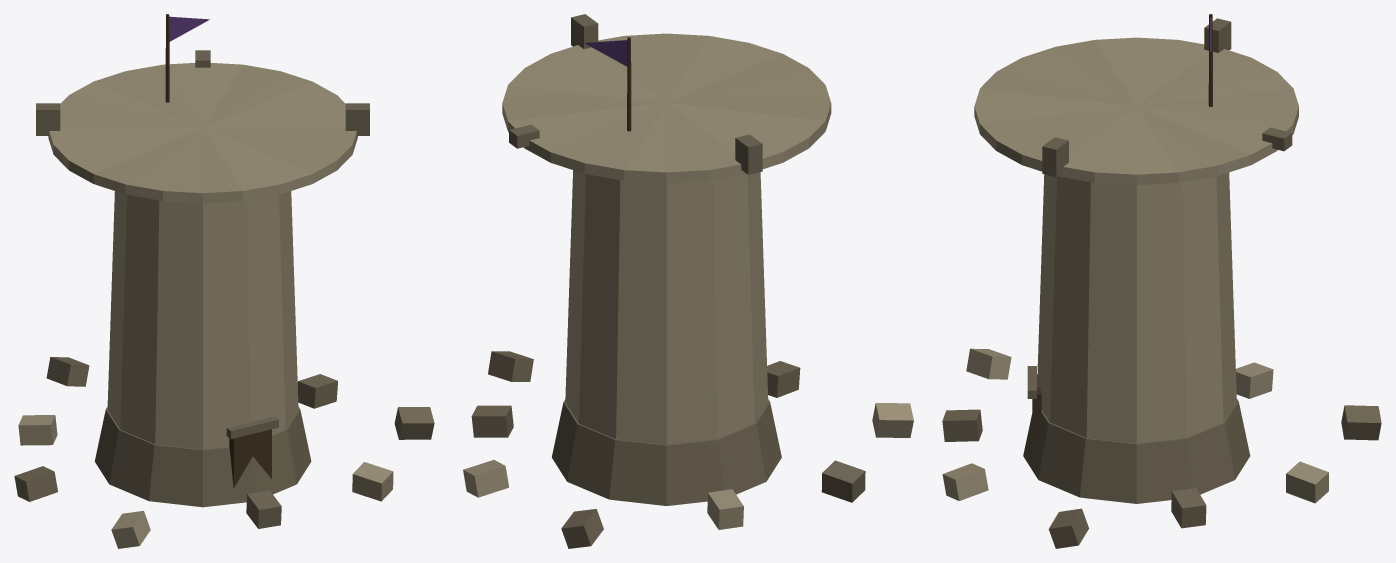
The model's file is tower_ruin.glb.
3 views of the same model, side by side, from view 1: azimuth 30°, elevation 25°; view 2: azimuth 150°, elevation 25°; view 3: azimuth 270°, elevation 25° (orthographic). The views are drawn at different scales.
Visible parts, largest first — view 1: tower_ruin; view 2: tower_ruin; view 3: tower_ruin.
Boxes of the visible parts, <box> form: tower_ruin: <box>14,14,434,548</box>; tower_ruin: <box>463,14,913,548</box>; tower_ruin: <box>942,14,1381,548</box>.
Bounding box in the file's own units: 19.74 × 21 × 18.94.
